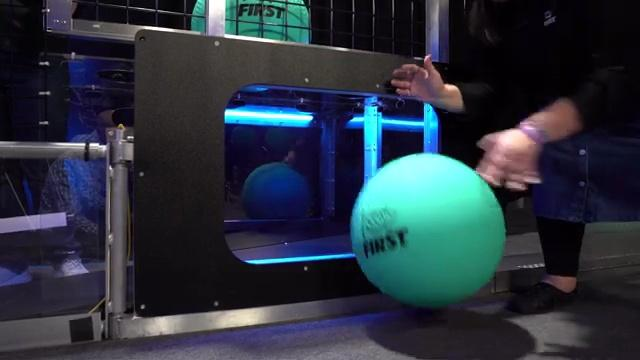ALGAE: (348, 151, 507, 308), (191, 0, 312, 46)
